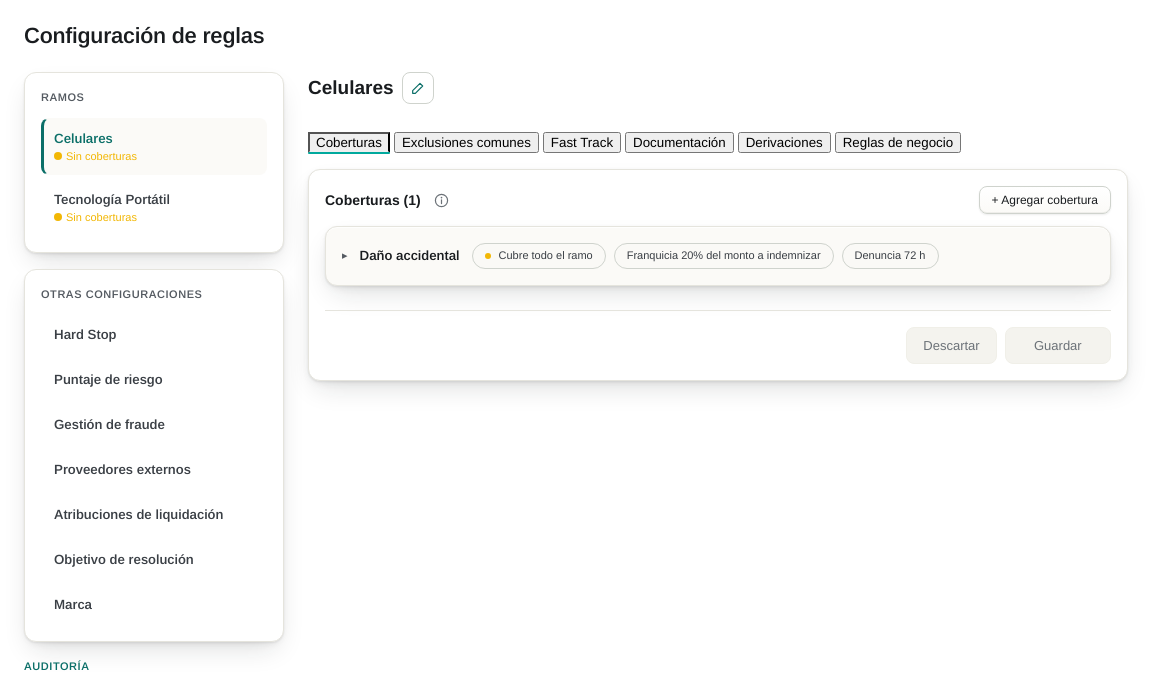
Test case: RulesComponent › a hard rule of the coverage › shows its value only while it is on
Click the button with class "cov-toggle" at (718, 256), box [342,243,1094,269]
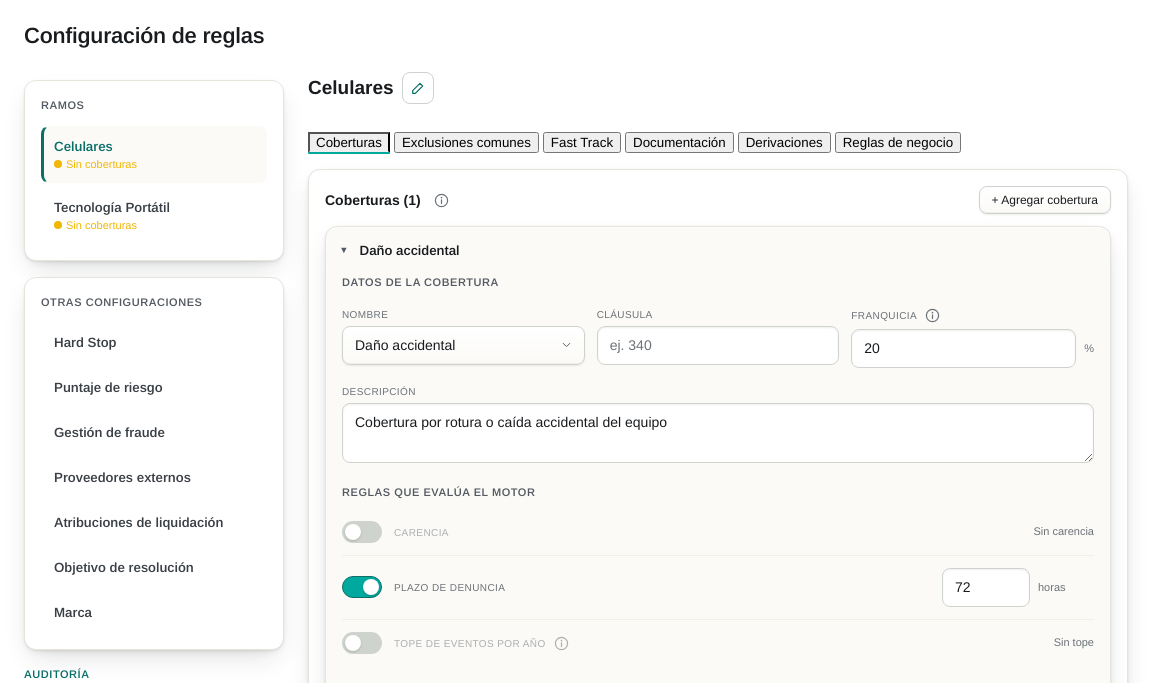
Expected: the list item with class "rule-row" shows "Sin carencia", [1034,525,1094,537]
Expected: the list item with class "rule-row" shows "Sin tope", [1054,636,1094,648]
